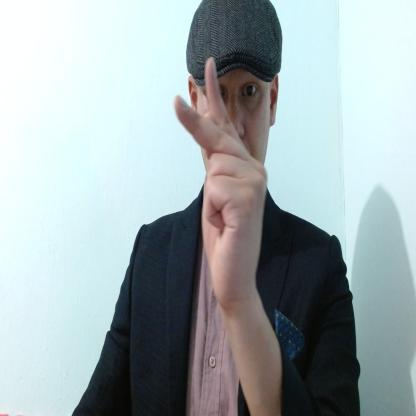P: (174, 53, 270, 307)
